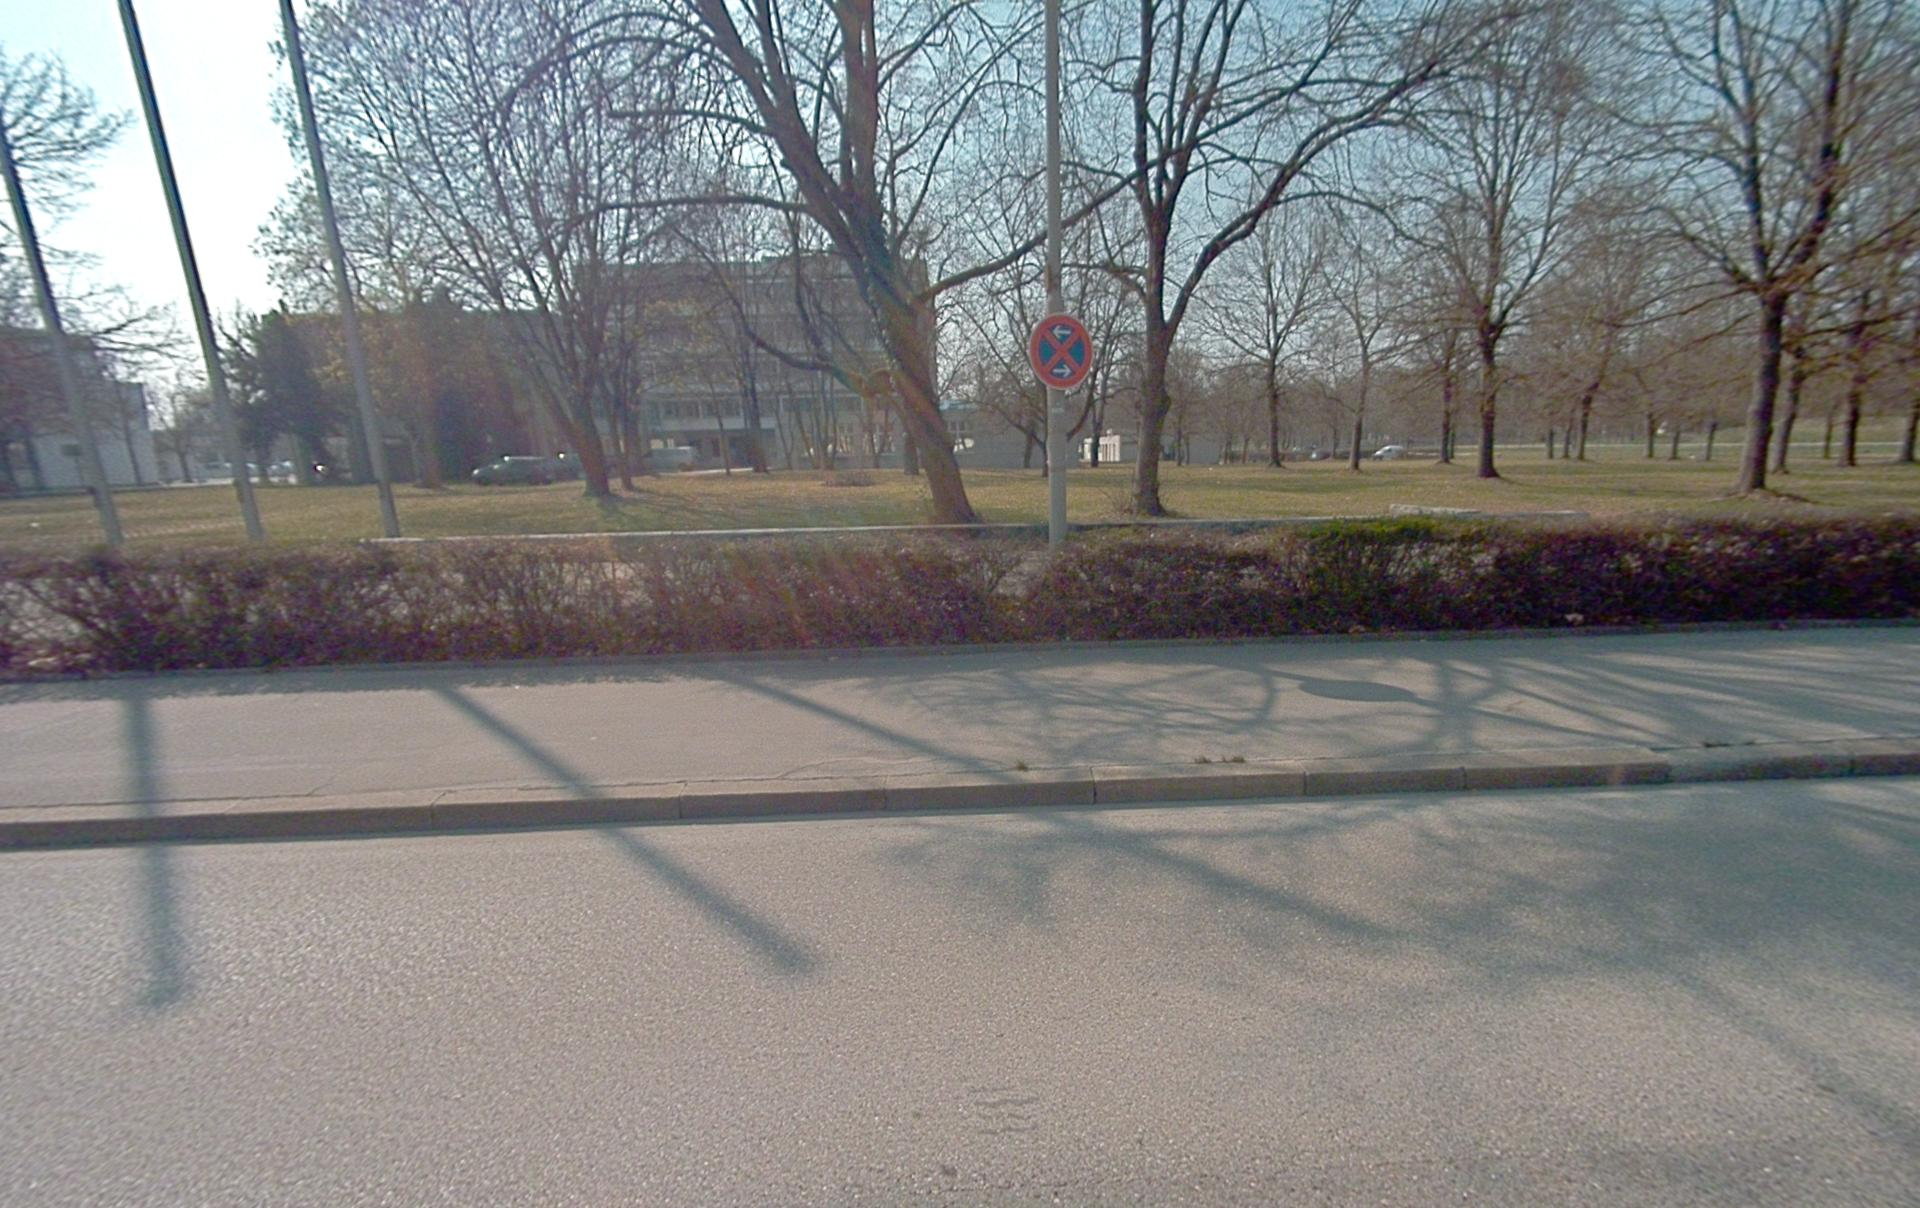car: (472, 454, 582, 486), (1373, 444, 1404, 461)
traffic sign: (1028, 313, 1094, 390)
